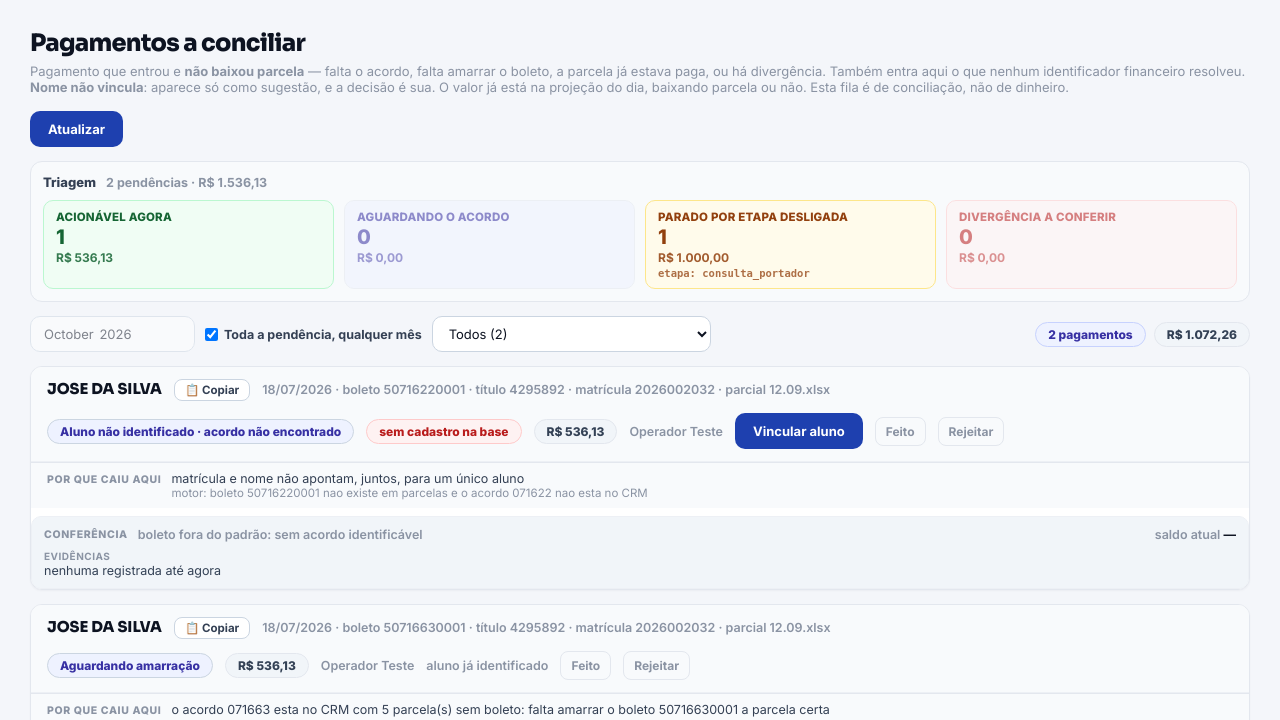
Test: faixa de triagem › clicar na categoria recorta a lista; o total nao muda de lugar
Expected: the text "boleto 50716220001 nao existe em parcelas" is shown, top-left (210, 486), bottom-right (648, 500)
What coordinates should you click on to do the following:
click the button titled "caminho pronto"
I would click on:
 (114, 217)
Its box is top-left (43, 200), bottom-right (334, 289).
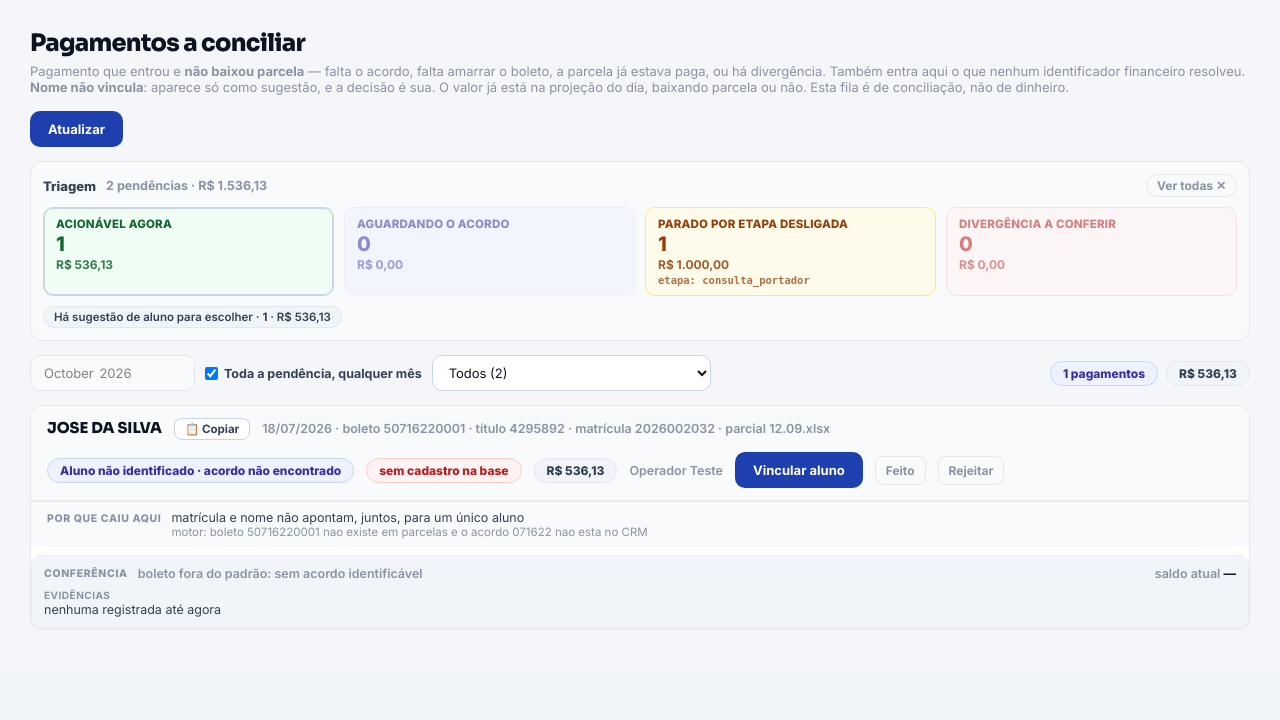
Expected: the text "boleto 50716220001 nao existe em parcelas" is shown, top-left (210, 525), bottom-right (648, 539)
Expected: the text "falta amarrar o boleto 50716630001" is gone
# E volta ao clicar de novo na mesma categoria.
What coordinates should you click on to do the following:
click the button titled "caminho pronto"
I would click on:
 (114, 224)
Its box is top-left (43, 207), bottom-right (334, 296).
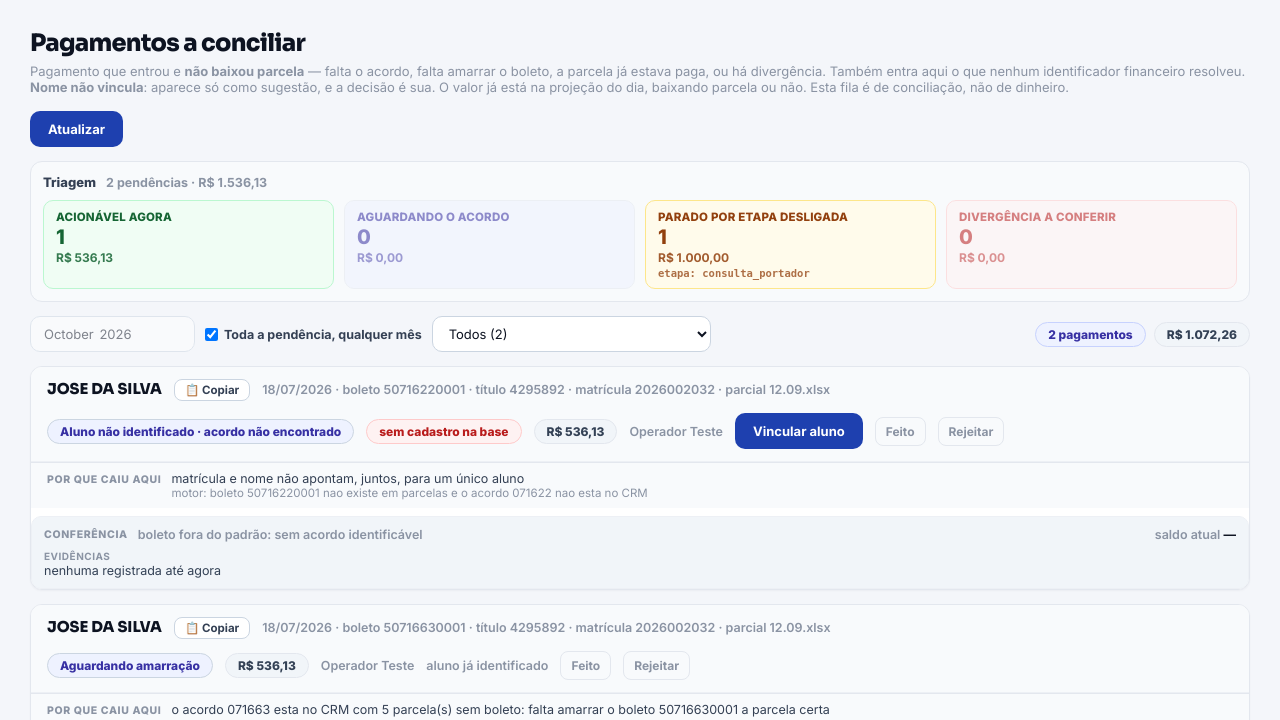
Expected: the text "falta amarrar o boleto 50716630001" is shown, top-left (171, 702), bottom-right (830, 717)
